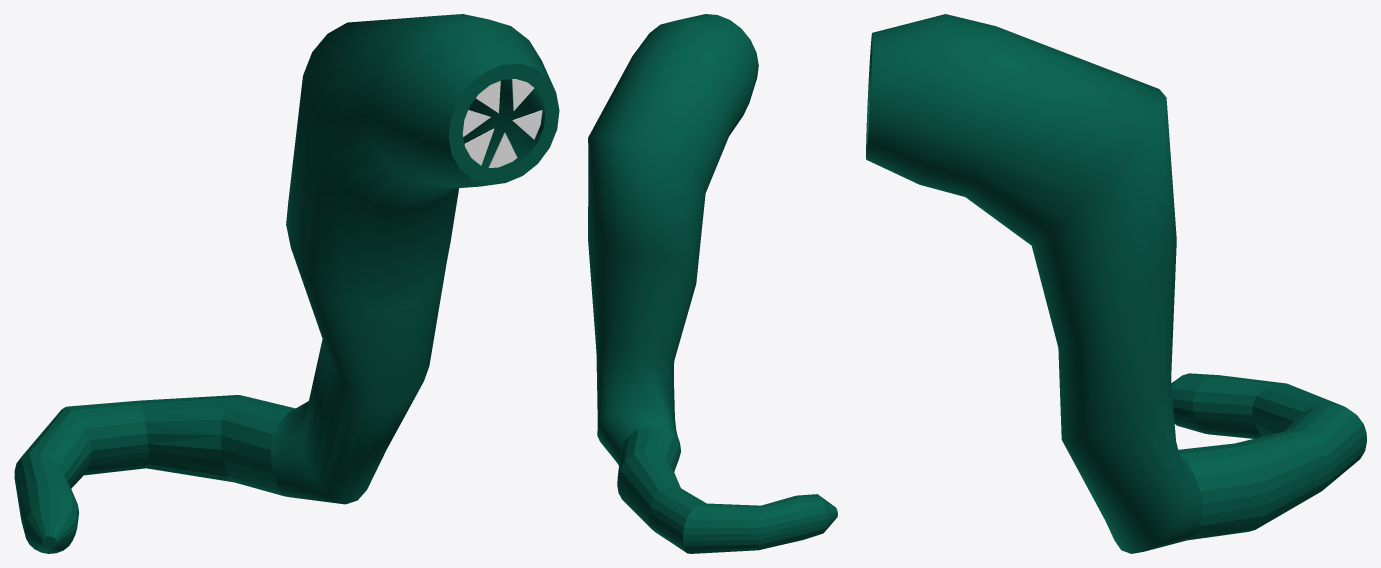
The model's file is Monster_2_Body.FBX.
3 views of the same model, side by side, from view 1: azimuth 30°, elevation 25°; view 2: azimuth 150°, elevation 25°; view 3: azimuth 270°, elevation 25° (orthographic). The views are drawn at different scales.
Parts seen in each view (by area): view 1: Tube002; view 2: Tube002; view 3: Tube002.
Part boxes in pixels (x1,y1,x2,y2): Tube002: (14, 14, 559, 553); Tube002: (588, 14, 837, 553); Tube002: (866, 14, 1366, 553).
Bounding box in the file's own units: 14.71 × 19.8 × 16.35.
